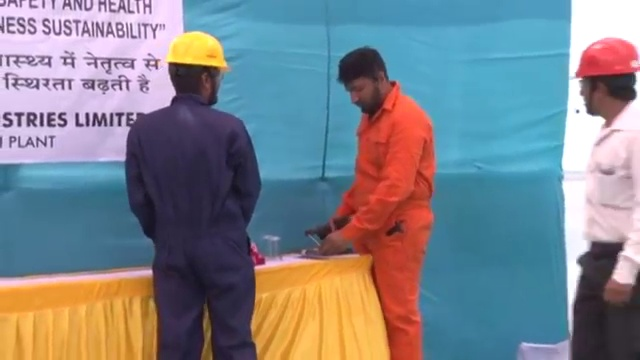helmet: (574, 36, 640, 80), (166, 30, 231, 73)
helmet_off: (336, 45, 395, 115)
helmet_on: (572, 36, 640, 124), (164, 30, 230, 111)
person: (121, 29, 264, 360), (317, 45, 437, 360), (569, 35, 640, 360)
